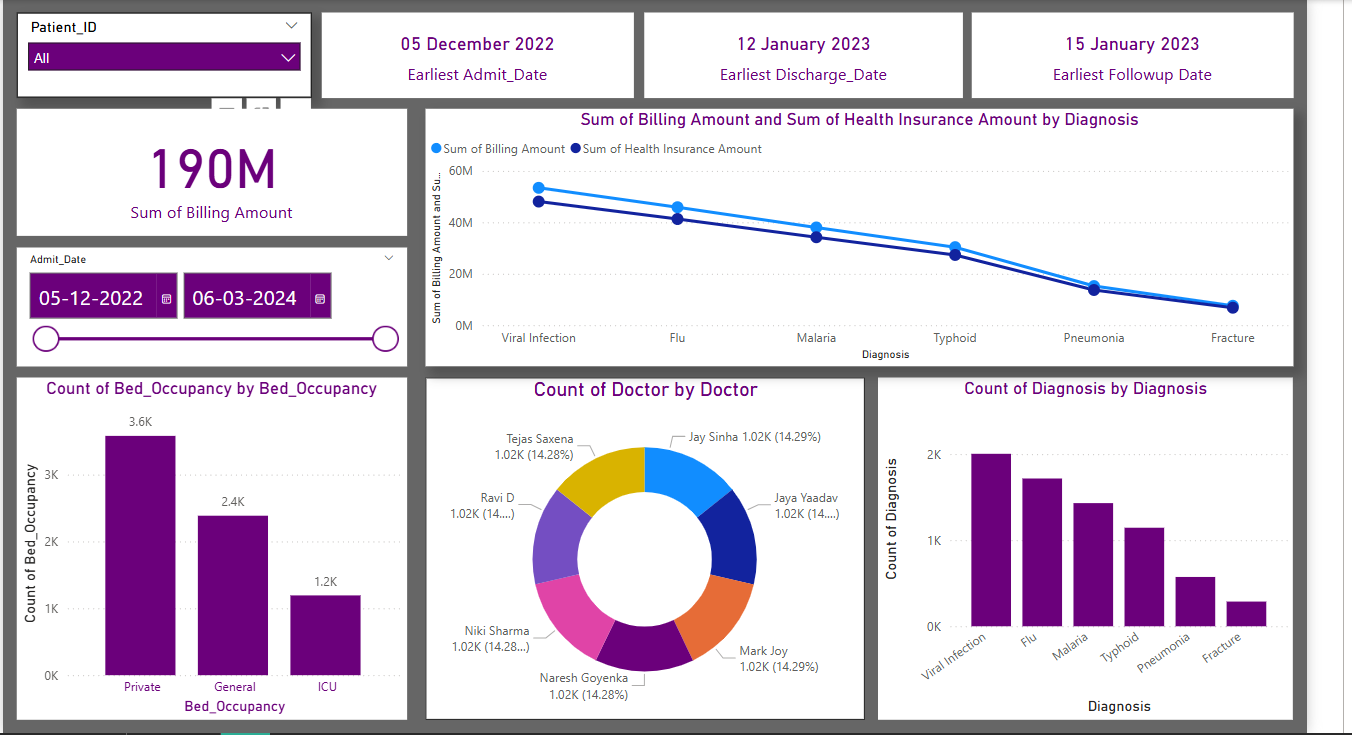

This screenshot's page, from the dashboard's own definition file:
{"tool":"powerbi","page":{"name":"Page 1","canvas":[1280,720],"ordinal":0},"visuals":[{"type":"slicer","fields":{"Values":["Sheet1.Patient_ID"]},"box":[13.7,12.3,289.5,83.7],"z":0},{"type":"card","title":"admit_date","fields":{"Values":["Sheet1.Admit_Date"]},"box":[312.9,12.3,306,83.7],"z":1},{"type":"card","fields":{"Values":["Sheet1.Discharge_Date"]},"box":[629.8,12.3,312.9,83.7],"z":2},{"type":"card","fields":{"Values":["Sheet1.Followup Date"]},"box":[950.9,12.3,315.6,83.7],"z":3},{"type":"card","fields":{"Values":["Sheet1.Billing Amount"]},"box":[13.7,107,382.8,124.9],"z":4},{"type":"slicer","fields":{"Values":["Sheet1.Admit_Date"]},"box":[13.7,242.9,382.8,116.6],"z":5},{"type":"columnChart","fields":{"Category":["Sheet1.Bed_Occupancy"],"Y":["Sheet1.Bed_Occupancy"]},"box":[13.7,370.5,382.8,336.2],"z":6},{"type":"donutChart","fields":{"Category":["Sheet1.Doctor"],"Y":["Sheet1.Doctor"]},"box":[414.4,370.5,430.9,336.2],"z":7},{"type":"columnChart","fields":{"Category":["Sheet1.Diagnosis"],"Y":["Sheet1.Diagnosis"]},"box":[859,370.5,407.5,336.2],"z":8},{"type":"lineChart","fields":{"Y":["Sheet1.Billing Amount","Sheet1.Health Insurance Amount"],"Category":["Sheet1.Diagnosis"]},"box":[414.4,107,852.1,252.5],"z":9}]}

Visuals, with their boxes in screenshot pixels (x1, y1, x2, y2):
slicer - Sheet1.Patient_ID: [21,12,313,97]
"admit_date" card: [322,12,631,97]
card - Sheet1.Discharge_Date: [642,12,957,97]
card - Sheet1.Followup Date: [965,12,1284,97]
card - Sheet1.Billing Amount: [21,108,407,234]
slicer - Sheet1.Admit_Date: [21,245,407,362]
columnChart - Sheet1.Bed_Occupancy x Sheet1.Bed_Occupancy: [21,373,407,712]
donutChart - Sheet1.Doctor x Sheet1.Doctor: [425,373,859,712]
columnChart - Sheet1.Diagnosis x Sheet1.Diagnosis: [873,373,1284,712]
lineChart - Sheet1.Billing Amount x Sheet1.Health Insurance Amount: [425,108,1284,362]
